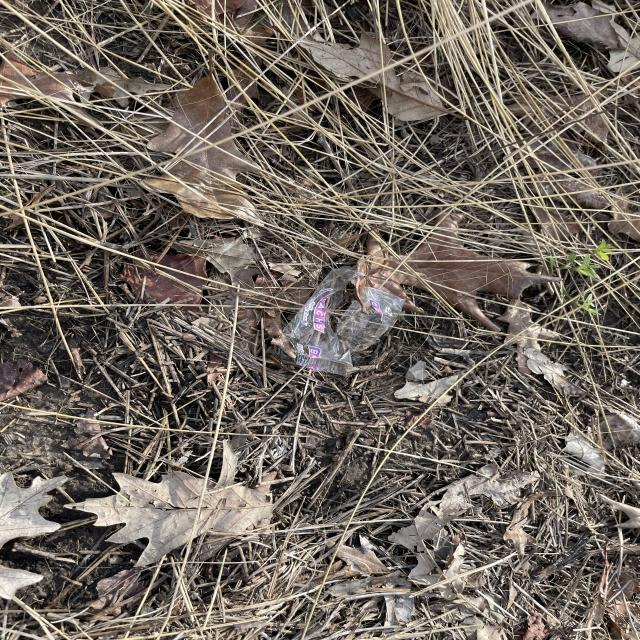plastic: (273, 264, 404, 372)
trash-zQNu: (273, 268, 400, 372)
